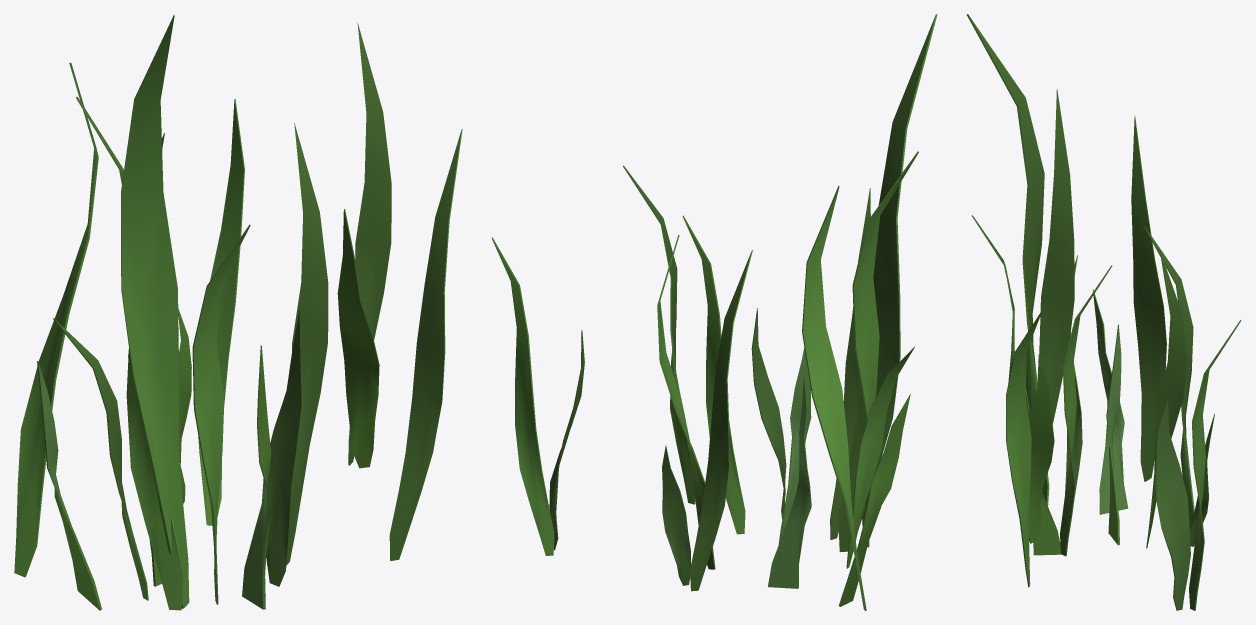
The model's file is grass.fbx.
3 views of the same model, side by side, from view 1: azimuth 30°, elevation 25°; view 2: azimuth 150°, elevation 25°; view 3: azimuth 270°, elevation 25° (orthographic). The views are drawn at different scales.
Parts seen in each view (by area): view 1: grass17; view 2: grass17; view 3: grass17.
Boxes of the visible parts, <box> form: grass17: <box>14,14,462,610</box>; grass17: <box>491,14,937,610</box>; grass17: <box>966,14,1241,610</box>.
Size of the model in its own units: 3.97 by 5.98 by 3.01.
Materials: 1 (1 with a texture image).
